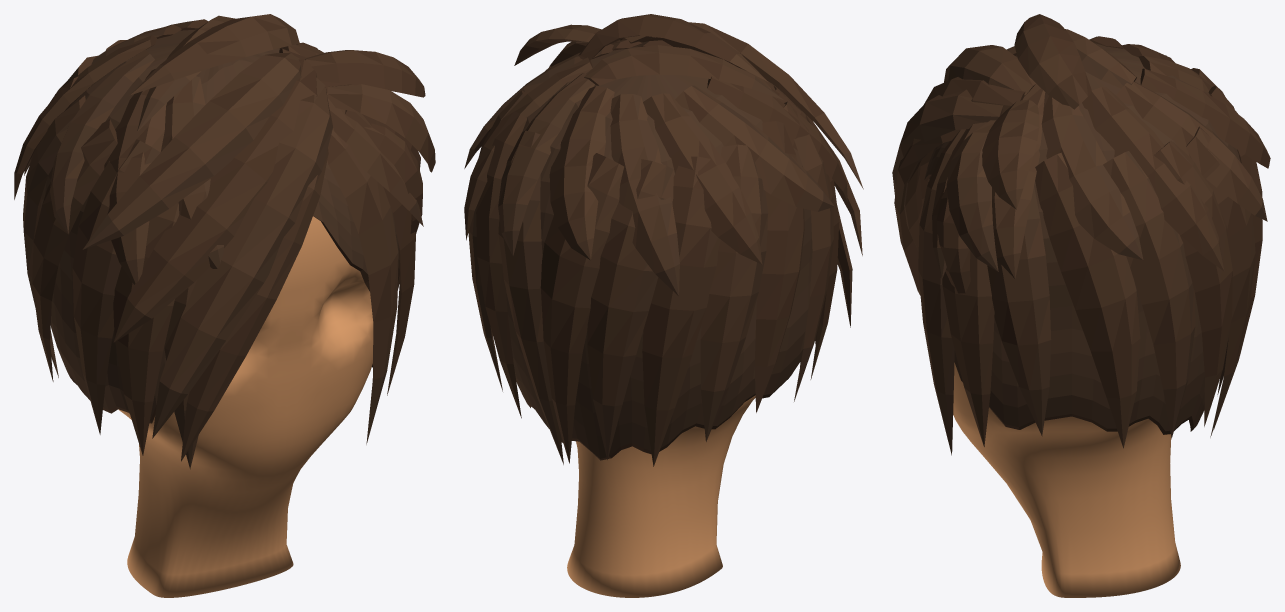
The model's file is base-01-corte-01.glb.
3 renders of one model, left to right at view 1: azimuth 30°, elevation 25°; view 2: azimuth 150°, elevation 25°; view 3: azimuth 270°, elevation 25°, orthographic. The views are drawn at different scales.
Parts seen in each view (by area): view 1: RCL_Corte_Feminino_01, RCL_Base_Feminina_01; view 2: RCL_Corte_Feminino_01, RCL_Base_Feminina_01; view 3: RCL_Corte_Feminino_01, RCL_Base_Feminina_01.
Boxes of the visible parts, box(x1,y1,x2,y2) form: RCL_Corte_Feminino_01: box(14, 14, 435, 469); RCL_Base_Feminina_01: box(118, 216, 373, 597); RCL_Corte_Feminino_01: box(464, 14, 863, 466); RCL_Base_Feminina_01: box(567, 395, 755, 597); RCL_Corte_Feminino_01: box(892, 14, 1270, 455); RCL_Base_Feminina_01: box(953, 362, 1180, 597).
Bounding box in the file's own units: 0.222 × 0.3331 × 0.2118.
